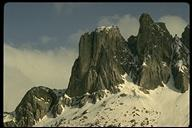cloud: (6, 42, 68, 84)
rock: (77, 13, 189, 97)
sky: (2, 2, 78, 40)
snow: (150, 92, 187, 125)
